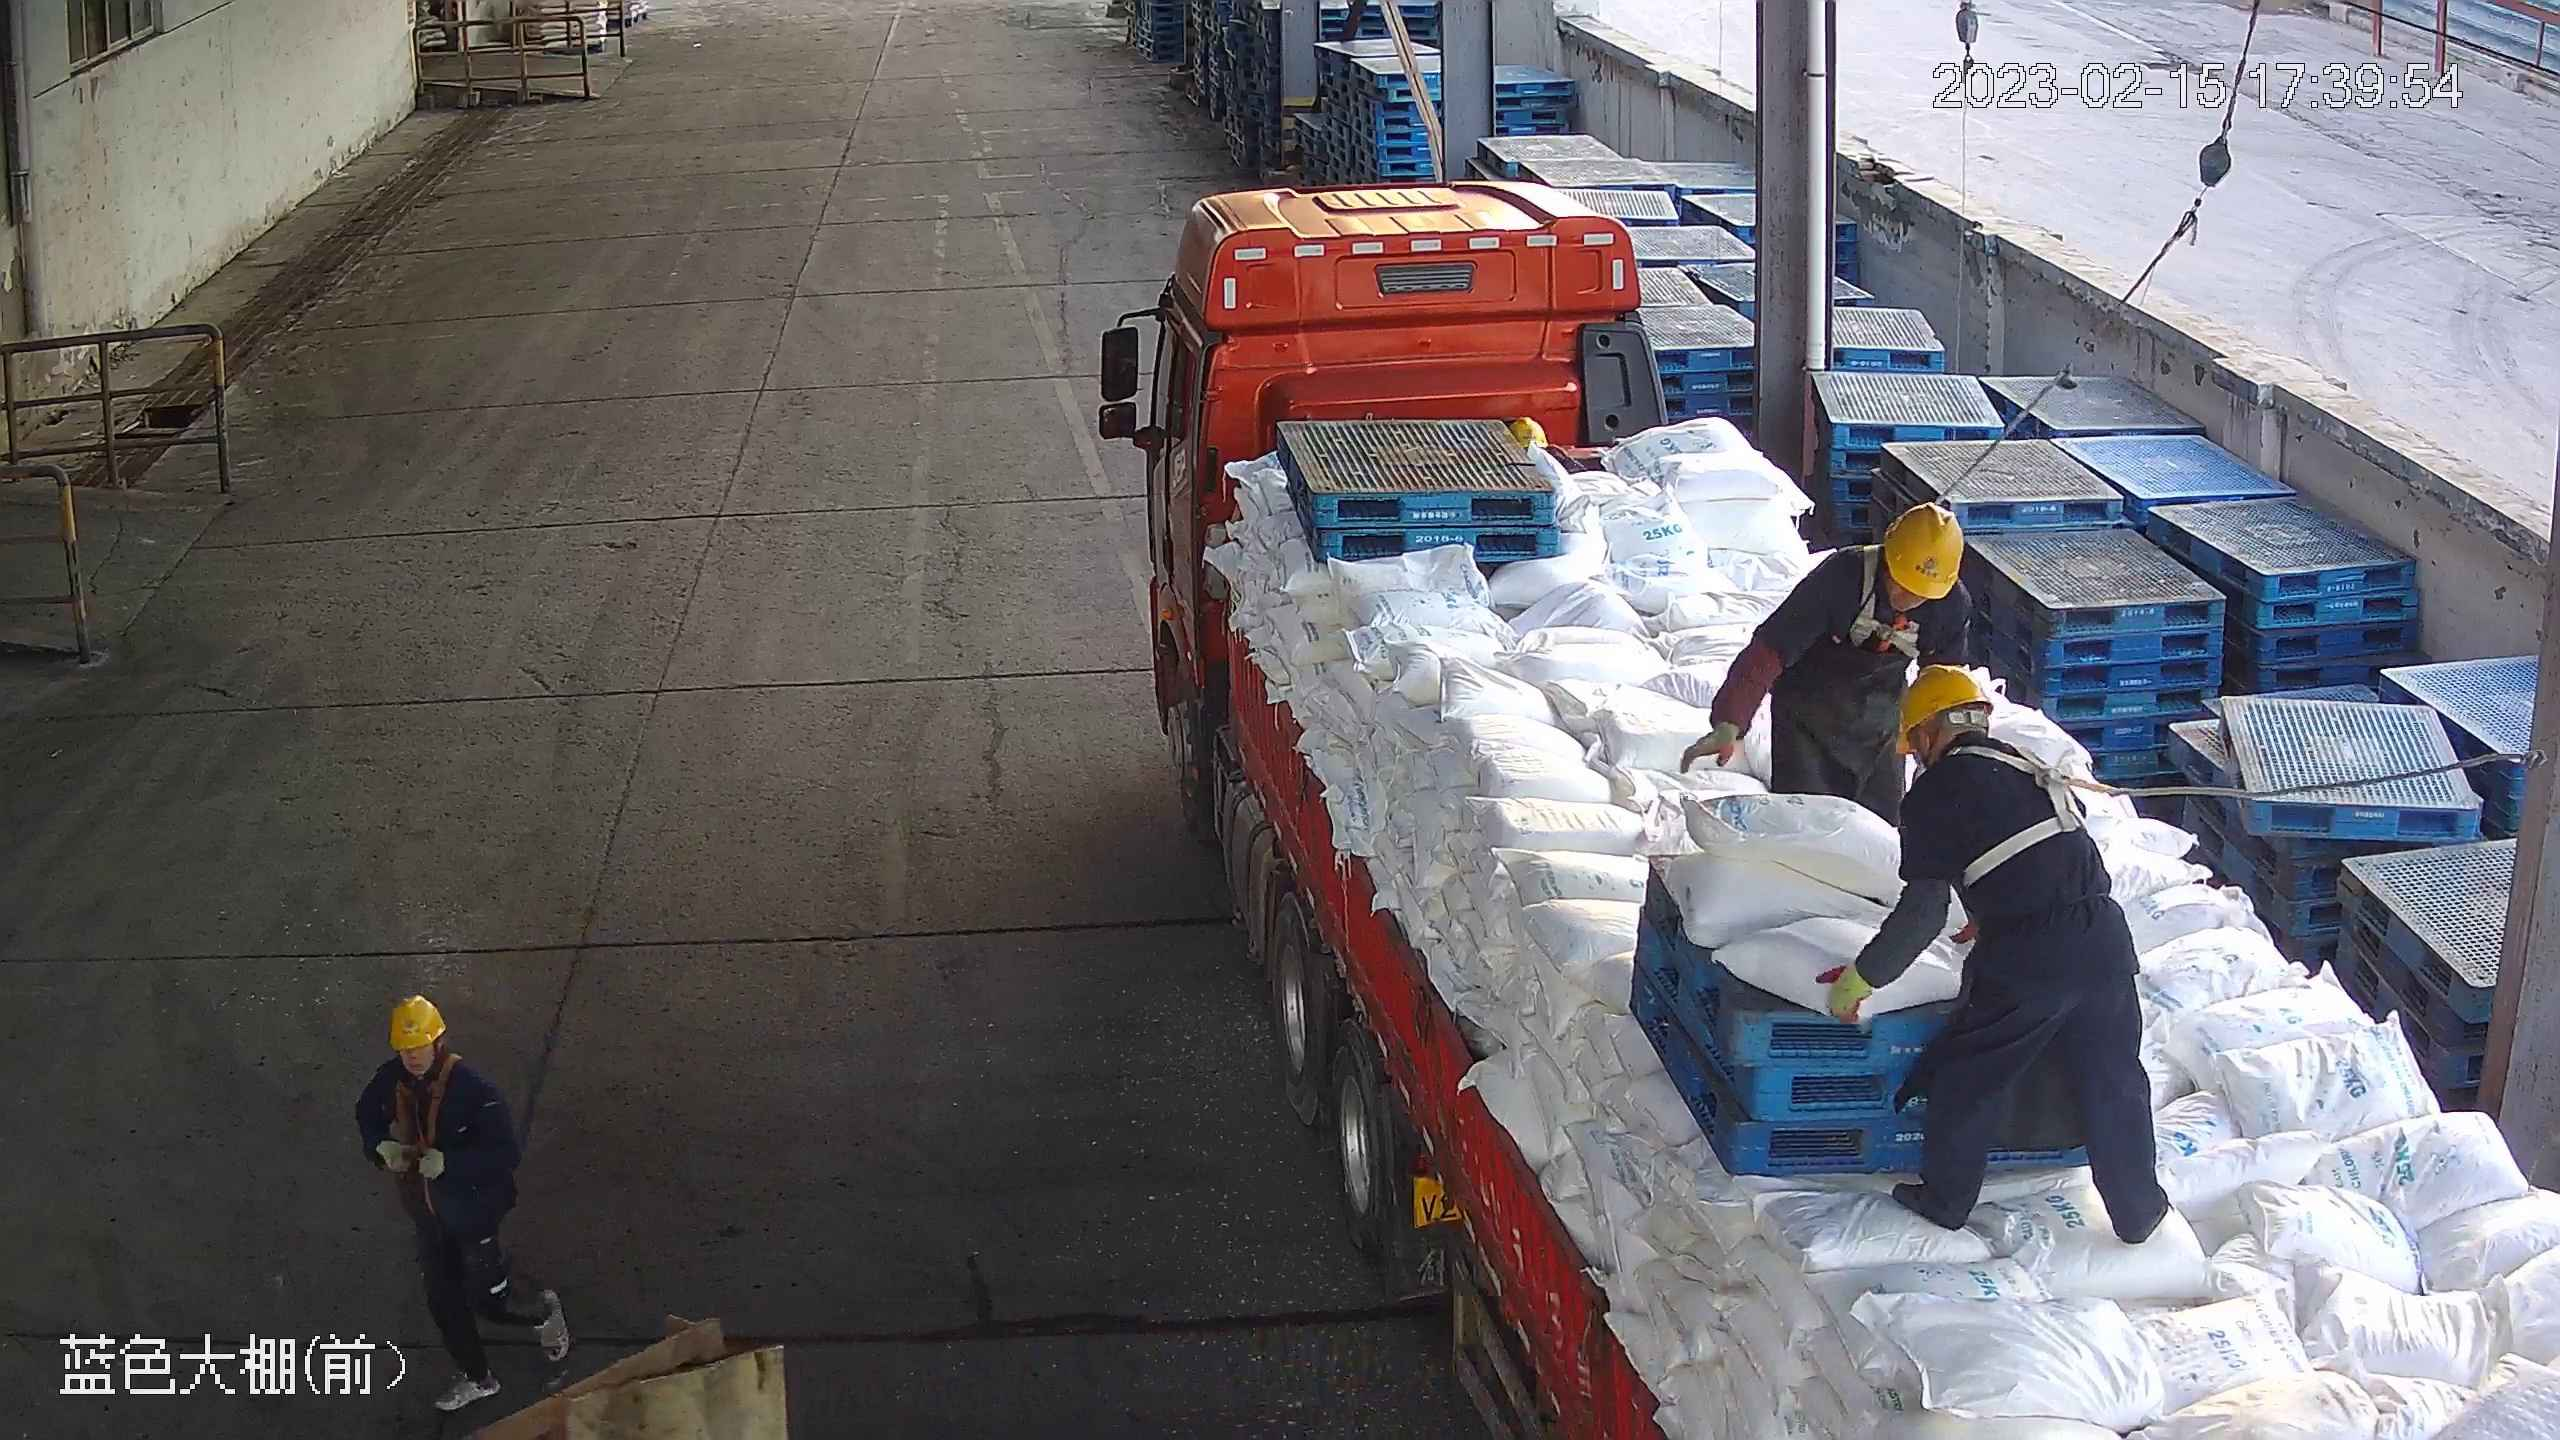belt: (1923, 734, 2105, 888), (1849, 547, 1930, 660)
head: (1891, 664, 2081, 816), (1811, 501, 1976, 613), (364, 992, 505, 1110)
helmet: (1890, 662, 1995, 756), (1881, 499, 1966, 601), (385, 995, 447, 1049)
people: (1815, 665, 2178, 1248), (1681, 502, 1998, 823), (351, 990, 571, 1413)
truck: (1144, 177, 2560, 1440)
